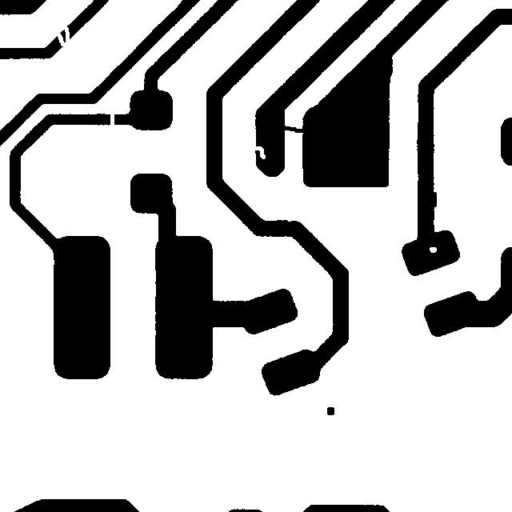copper: (319, 399, 342, 422)
mousebite: (246, 138, 273, 166)
open: (49, 16, 77, 54), (102, 101, 122, 137)
pin-hole: (422, 239, 444, 260)
short: (274, 118, 318, 140)
spur: (424, 184, 444, 214)
